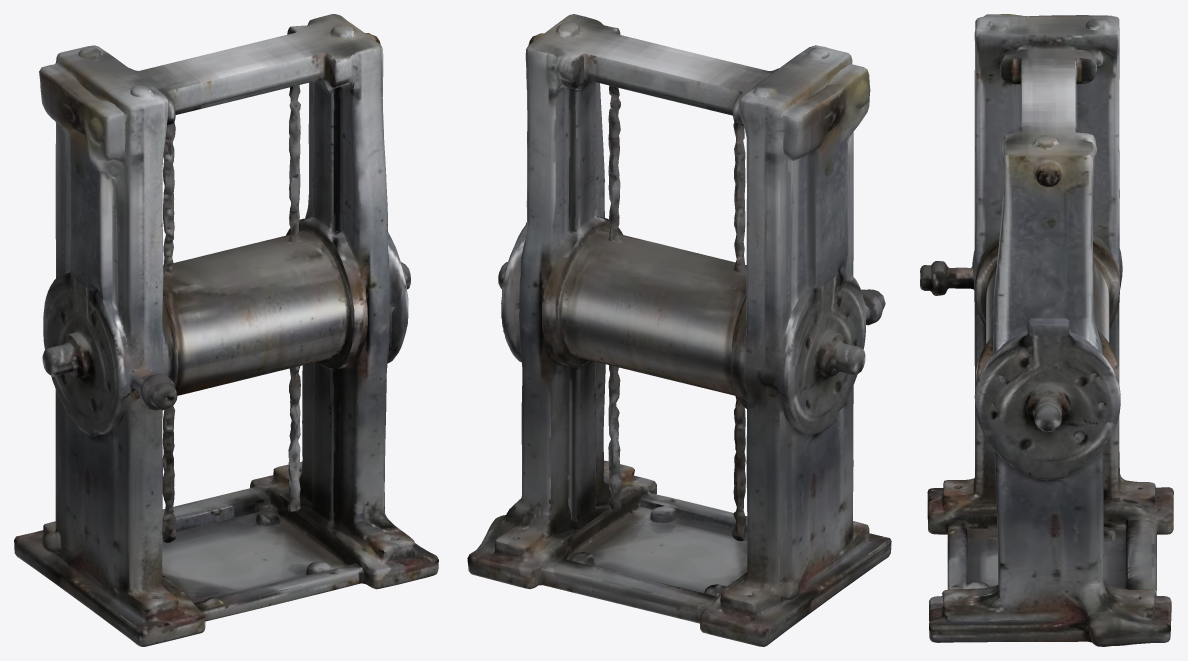
File: hide-puller.glb
3 renders of one model, left to right at view 1: azimuth 30°, elevation 25°; view 2: azimuth 150°, elevation 25°; view 3: azimuth 270°, elevation 25°, orthographic. The views are drawn at different scales.
Parts seen in each view (by area): view 1: cowninja-hide-puller; view 2: cowninja-hide-puller; view 3: cowninja-hide-puller.
Boxes of the visible parts, x1,y1,x2,y2 form: cowninja-hide-puller: [14, 14, 438, 646]; cowninja-hide-puller: [467, 14, 891, 646]; cowninja-hide-puller: [920, 14, 1173, 646].
Size of the model in its own units: 2.5 by 3.5 by 1.61.
1 material, 1 textured.
